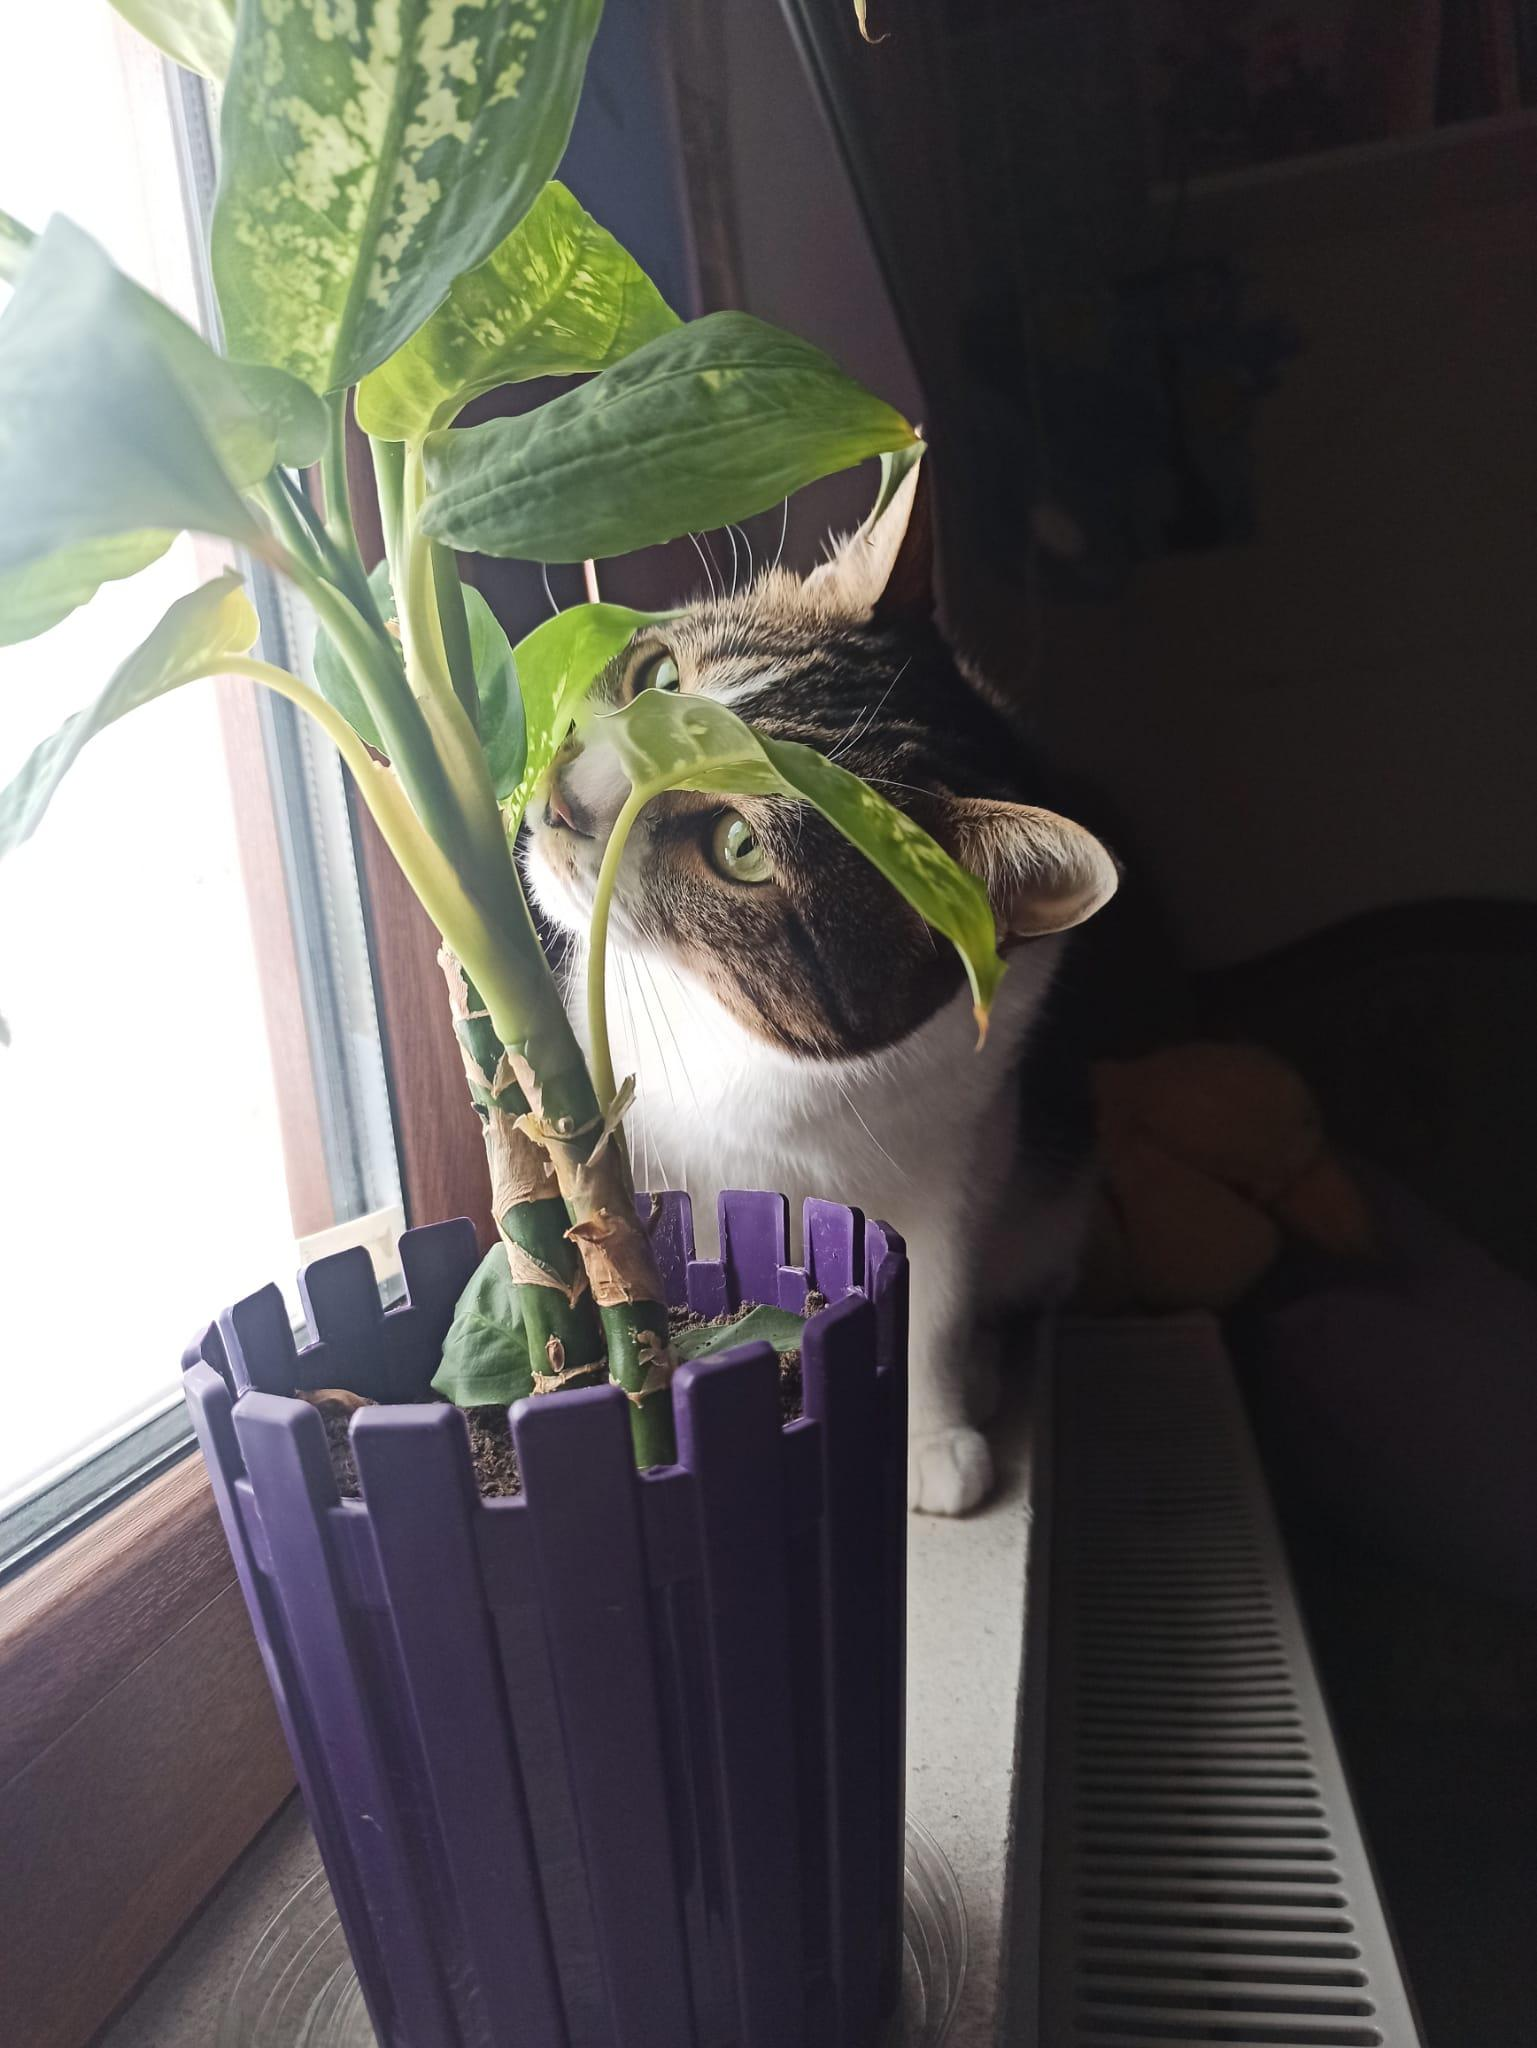kedo: (526, 434, 1117, 1509)
